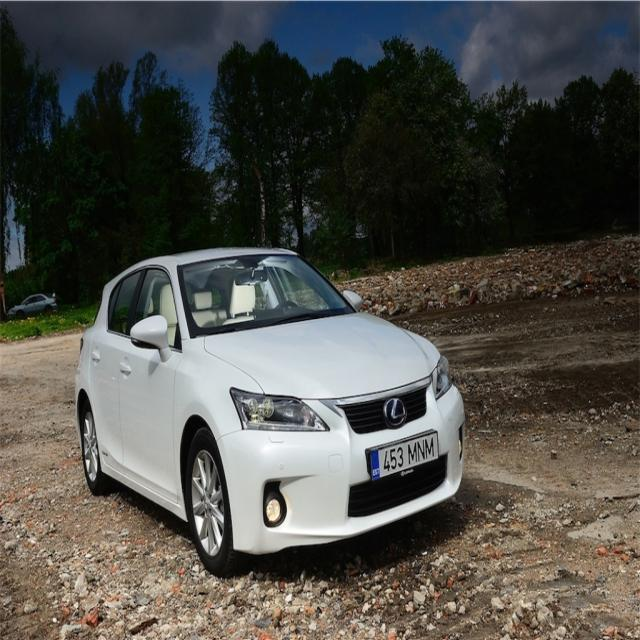car: (78, 241, 461, 573)
